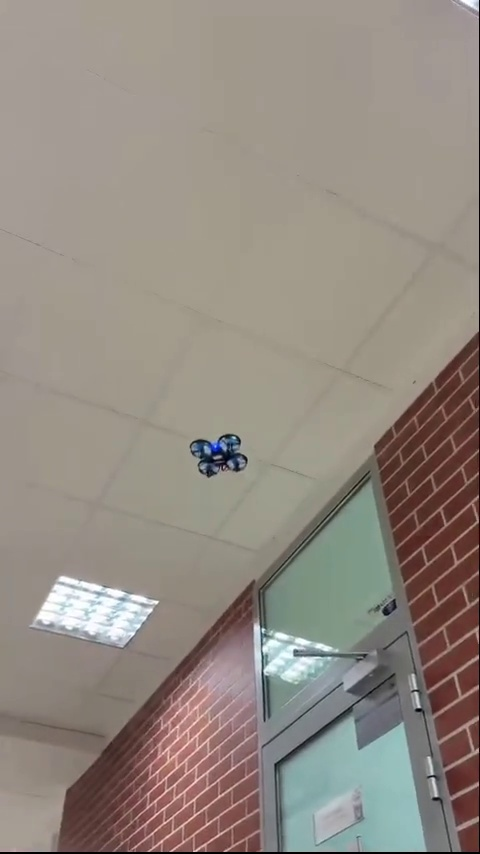drone: (194, 437, 256, 479)
